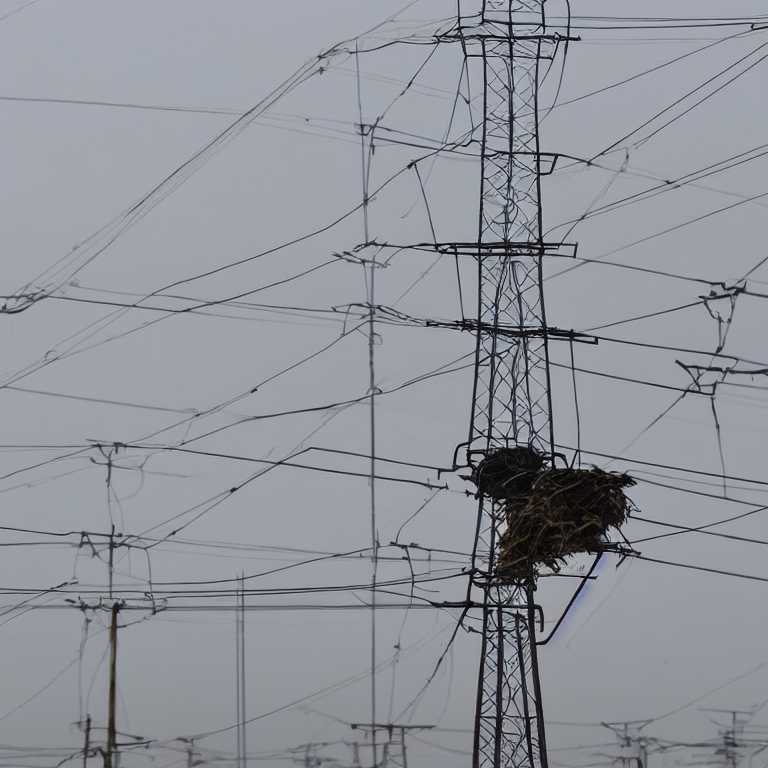nest: (504, 465, 633, 569)
